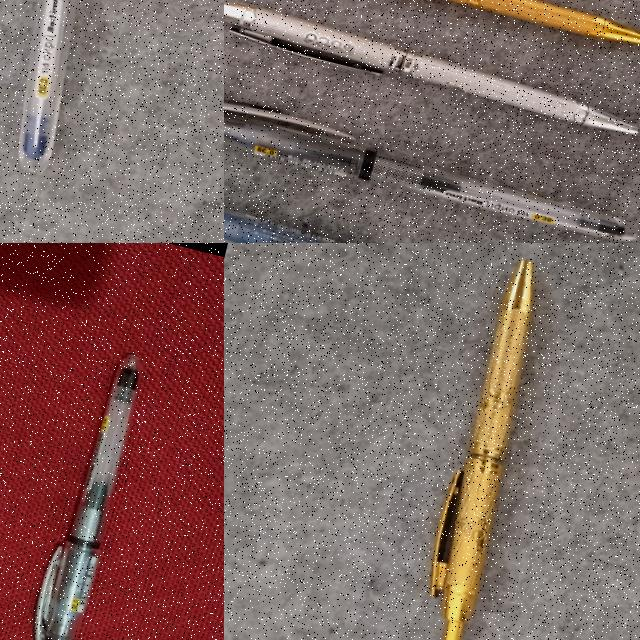pen: (224, 83, 635, 243), (37, 354, 141, 640), (224, 186, 614, 243), (19, 0, 75, 173)
signature pen: (224, 0, 640, 141), (430, 260, 533, 640), (224, 0, 640, 54)
